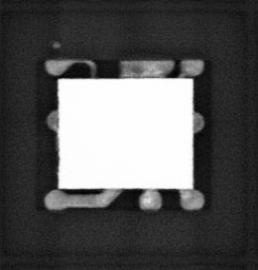DIE_INK: (51, 39, 61, 48)
